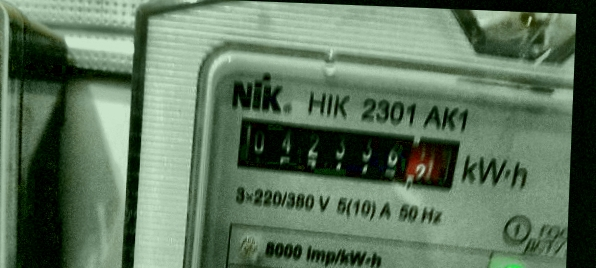0: (251, 126, 266, 155)
2: (303, 130, 322, 158)
3: (330, 131, 347, 161), (359, 133, 374, 162)
4: (277, 128, 294, 156)
6: (384, 140, 400, 168)
screen: (225, 108, 468, 199)
